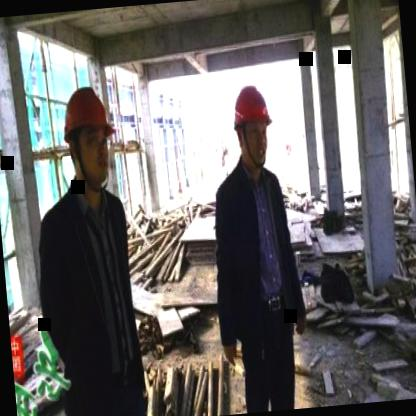helmet: (55, 76, 124, 194), (225, 77, 280, 171)
